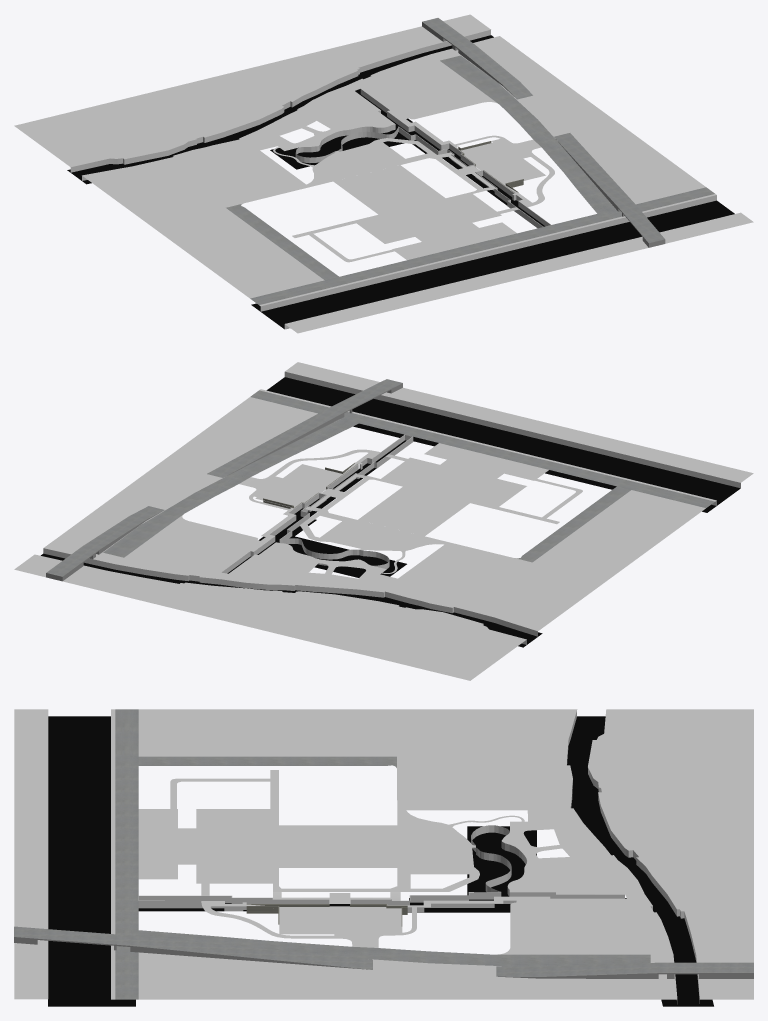
File: ChenYun_Ground.FBX
3 renders of one model, top to bottom at view 1: azimuth 30°, elevation 25°; view 2: azimuth 150°, elevation 25°; view 3: azimuth 270°, elevation 25°, orthographic. The views are drawn at different scales.
Visible parts, largest first — view 1: Ground01, Object006, plane, Object007, Road, Object008, Ground02, Object005, RiverSide02, RiverSide03; view 2: Ground01, Object006, plane, Object007, Road, Ground02, Object008, RiverSide02, RiverSide03, Object005; view 3: Ground01, Object006, plane, Object007, Road, RiverSide03, RiverSide02, Object005, Ground02, RiverSide04, RiverSide05, RiverSide01.
Boxes of the visible parts, left/top/right/bottom form: Ground01: left=95, top=43, right=714, bottom=304; Object006: left=14, top=14, right=509, bottom=184; plane: left=67, top=35, right=734, bottom=329; Object007: left=259, top=194, right=753, bottom=333; Road: left=422, top=18, right=665, bottom=247; Object008: left=260, top=195, right=716, bottom=329; Ground02: left=70, top=29, right=490, bottom=180; Object005: left=295, top=124, right=398, bottom=163; RiverSide02: left=360, top=89, right=475, bottom=167; RiverSide03: left=475, top=170, right=550, bottom=228; Ground01: left=54, top=390, right=714, bottom=621; Object006: left=14, top=540, right=550, bottom=680; plane: left=41, top=377, right=740, bottom=647; Object007: left=259, top=362, right=753, bottom=501; Road: left=46, top=379, right=402, bottom=581; Ground02: left=43, top=548, right=537, bottom=644; Object008: left=284, top=371, right=740, bottom=505; RiverSide02: left=222, top=493, right=326, bottom=573; RiverSide03: left=326, top=435, right=413, bottom=490; Object005: left=279, top=538, right=389, bottom=568; Ground01: left=115, top=709, right=650, bottom=999; Object006: left=539, top=709, right=753, bottom=999; plane: left=48, top=716, right=713, bottom=1006; Object007: left=14, top=709, right=115, bottom=999; Road: left=14, top=926, right=753, bottom=978; RiverSide03: left=138, top=896, right=329, bottom=911; RiverSide02: left=350, top=892, right=516, bottom=912; Object005: left=471, top=825, right=526, bottom=896; Ground02: left=567, top=711, right=699, bottom=1004; RiverSide04: left=138, top=892, right=626, bottom=905; RiverSide05: left=246, top=904, right=407, bottom=926; RiverSide01: left=509, top=892, right=624, bottom=898.
Bounding box in the file's own units: 26025 × 560 × 28025.
